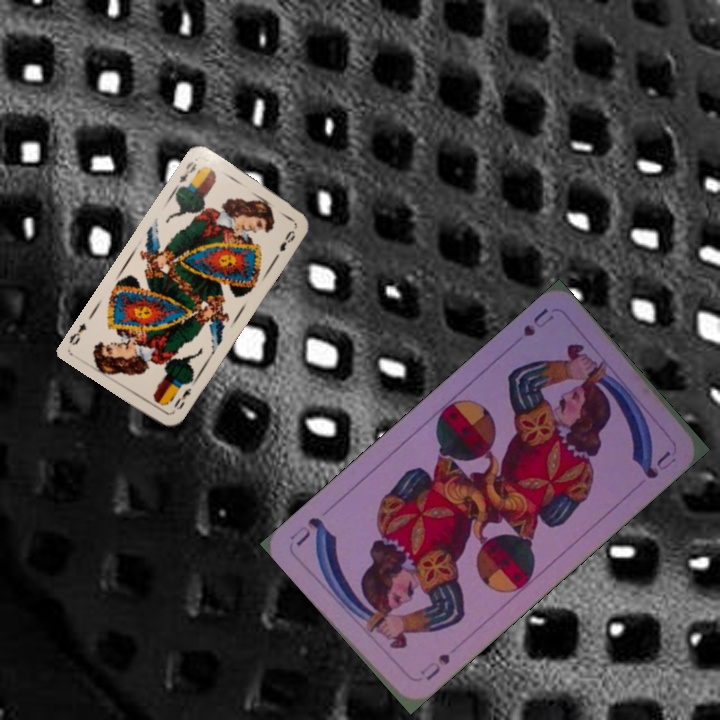EO: (170, 384, 194, 412), (175, 157, 199, 185)
SU: (519, 303, 557, 340), (416, 649, 453, 683)
